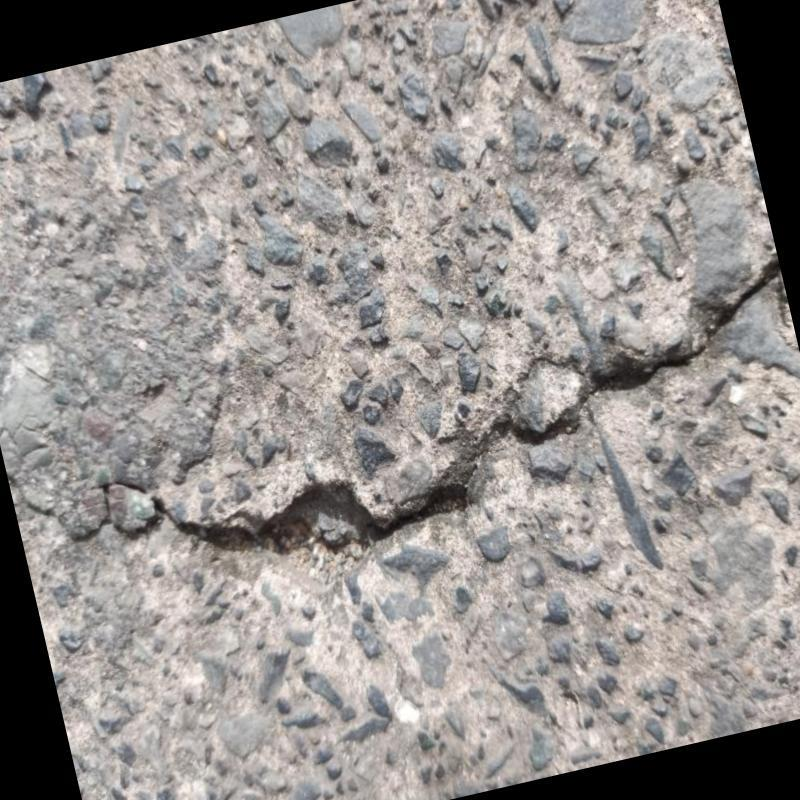pothole: (168, 249, 780, 549)
